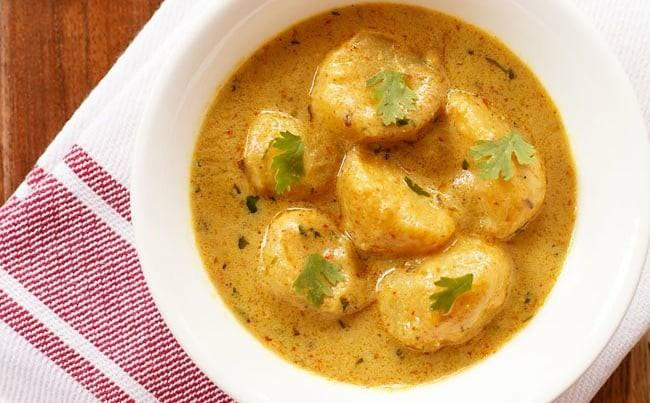DumAloo: (189, 3, 579, 386)
